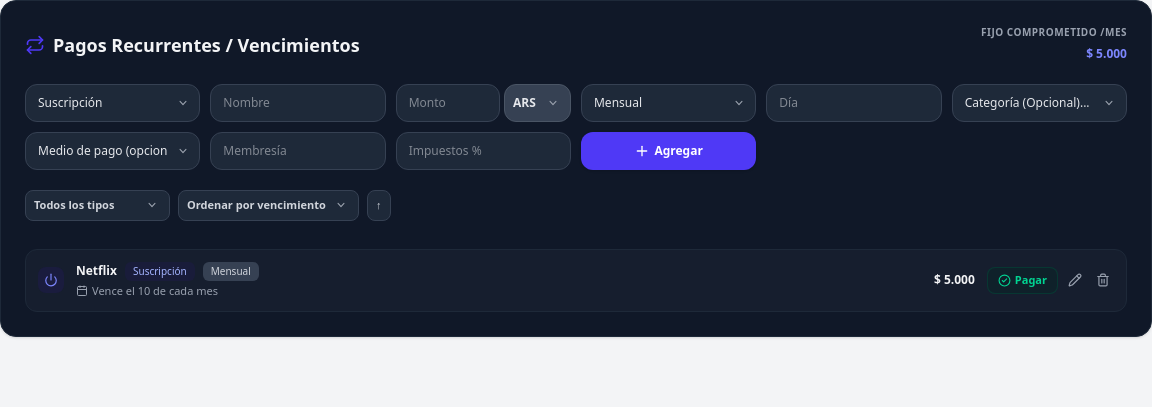
Scenario: RecurringManager — editar suscripción existente › cancelar la edición vuelve al formulario vacío para crear una nueva
The image size is (1152, 407).
Click the button titled "Editar" at (1075, 280), box [1064,269,1086,291]
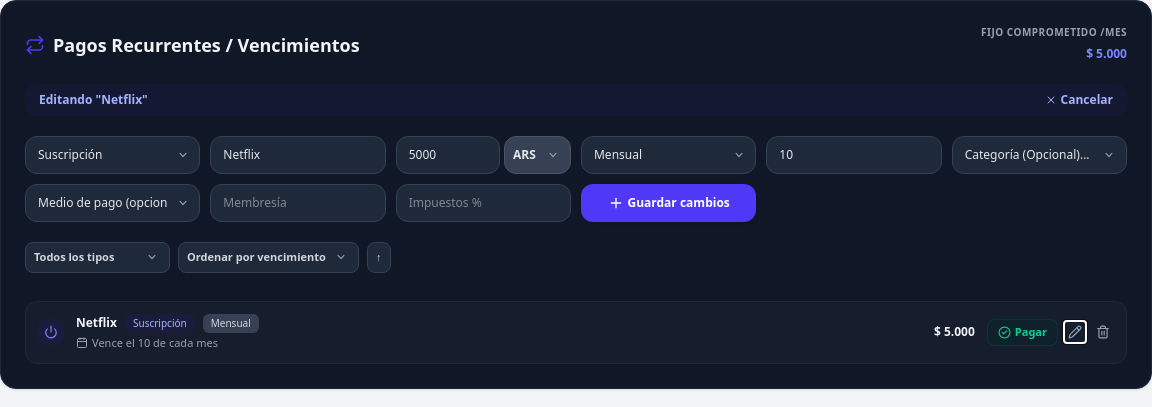
Expected: the field showing "Netflix" is shown, [210,136,386,174]
Click the button "Cancelar" at (1079, 100), box [1045,92,1113,108]
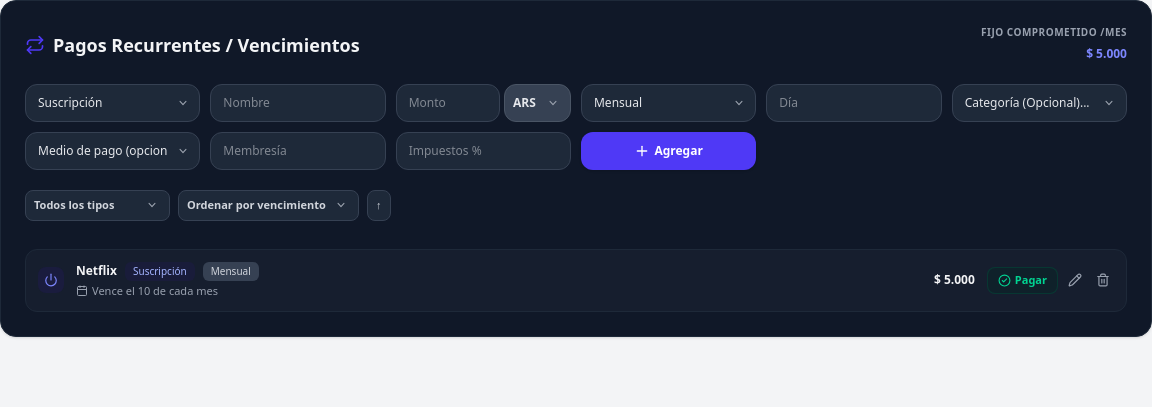
Expected: the text "Editando" is gone
Expected: the button "Agregar" is shown, [581,132,756,170]
